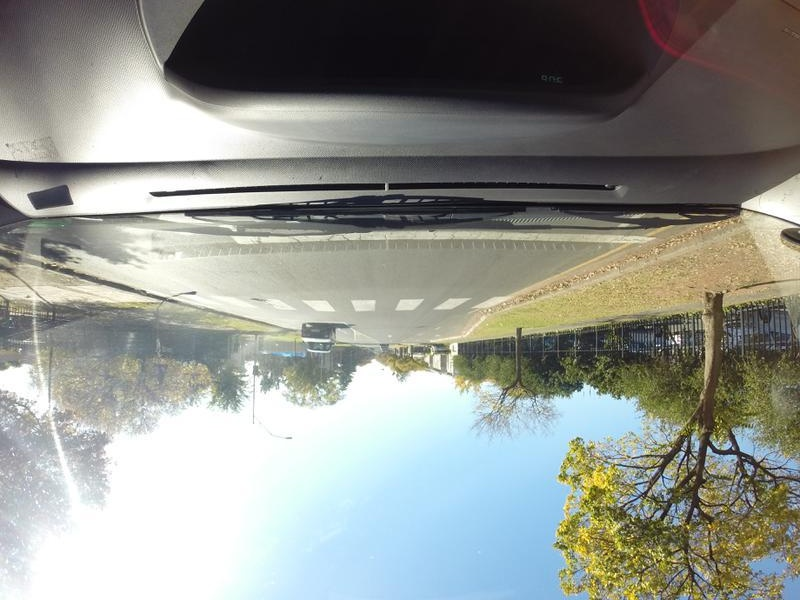pothole: (247, 295, 264, 303)
